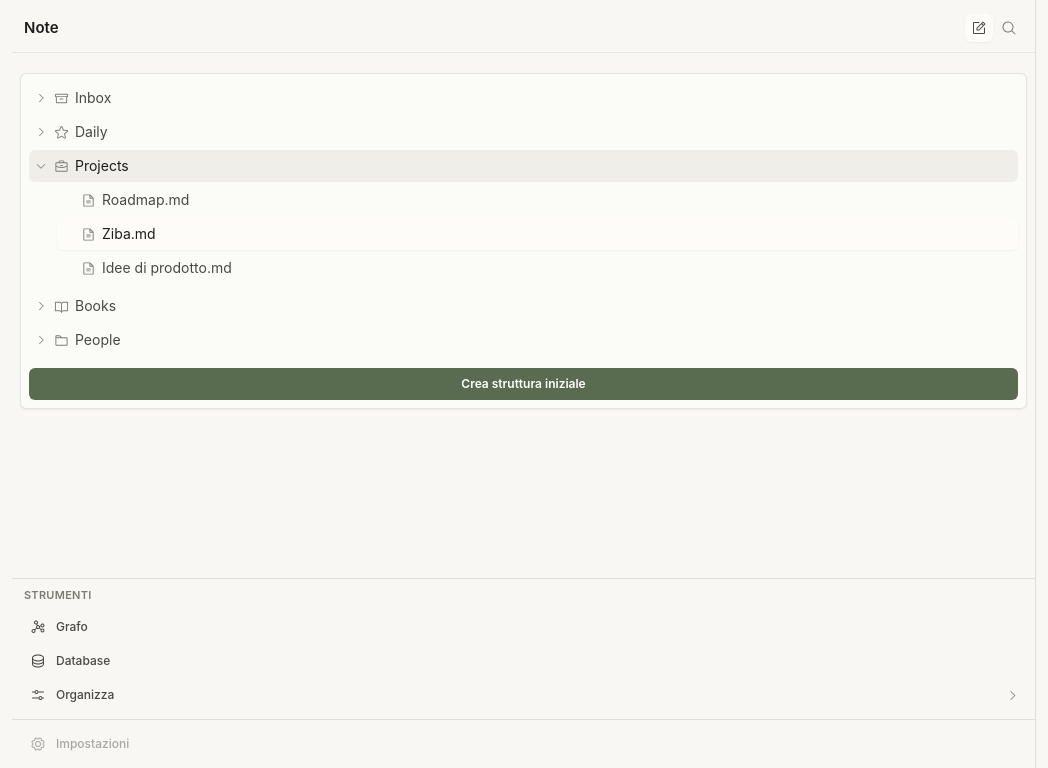
Scenario: Sidebar navigation › opens organization sections only from the Organizza tool
Check: the field labelled "Tipi" is not shown
Check: the field labelled "Tag" is not shown
Step 1. Click the button "Organizza" → (85, 694), box [20, 679, 1027, 711]
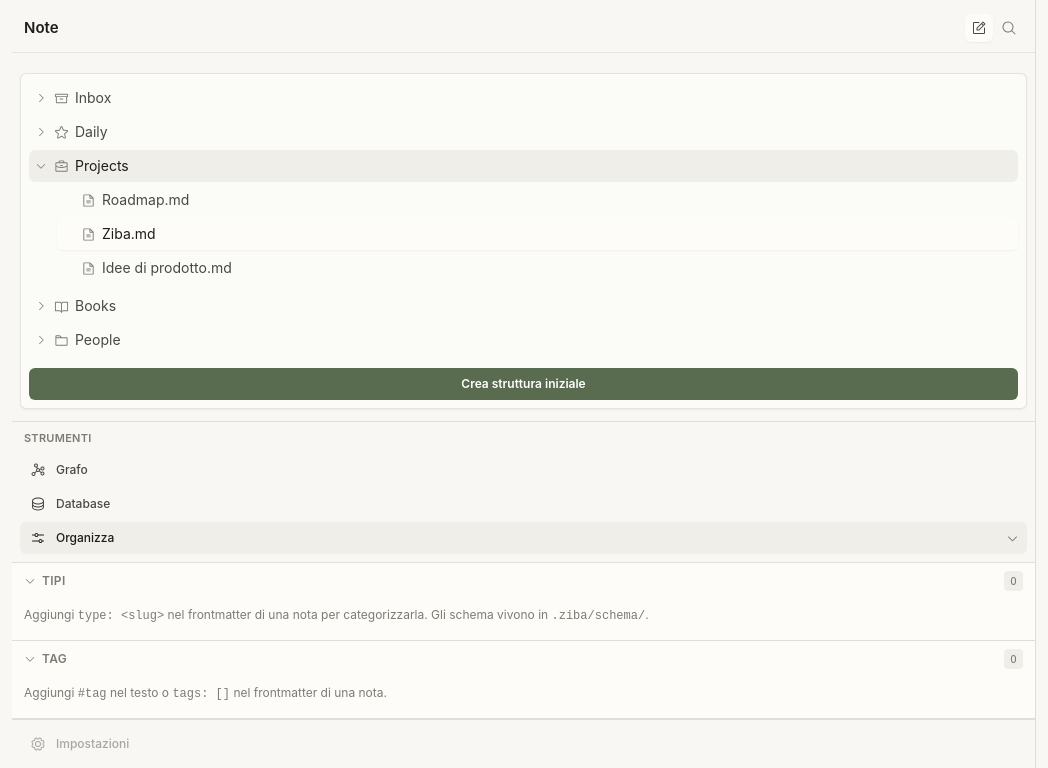
Check: the element labelled "Tipi" is shown, box [12, 563, 1035, 641]
Check: the element labelled "Tag" is shown, box [12, 641, 1035, 719]
